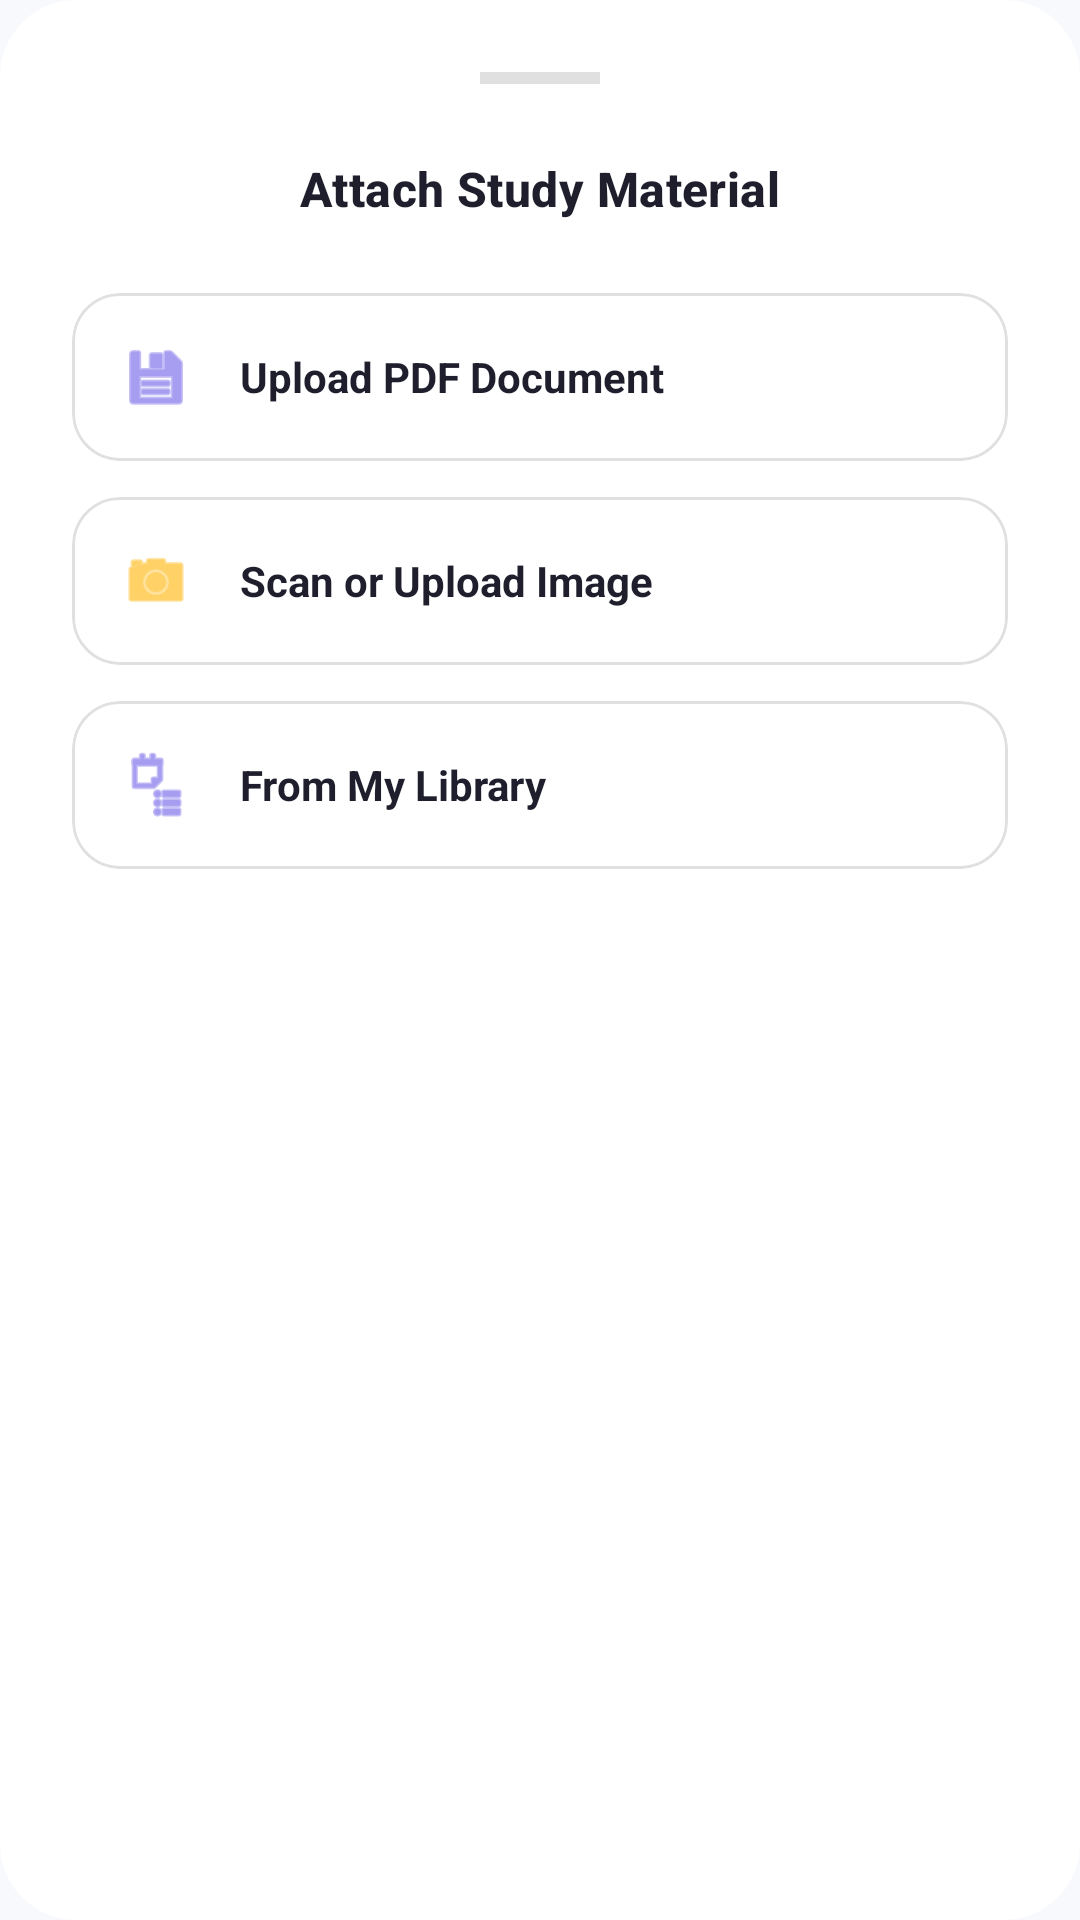

Icons on this 1080x1920 Android screen, each with its box as (x1, y1, x2, y2):
agenda: (131, 753, 182, 817)
camera: (128, 558, 184, 602)
save: (129, 350, 183, 405)
